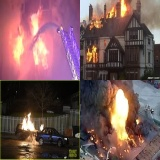fire: (29, 13, 49, 67), (109, 88, 128, 140), (12, 31, 24, 65), (21, 112, 35, 132), (88, 14, 104, 30), (86, 44, 98, 63), (120, 0, 133, 17), (87, 129, 99, 143), (106, 5, 117, 20), (138, 133, 144, 143), (40, 123, 45, 131), (136, 118, 140, 124)
